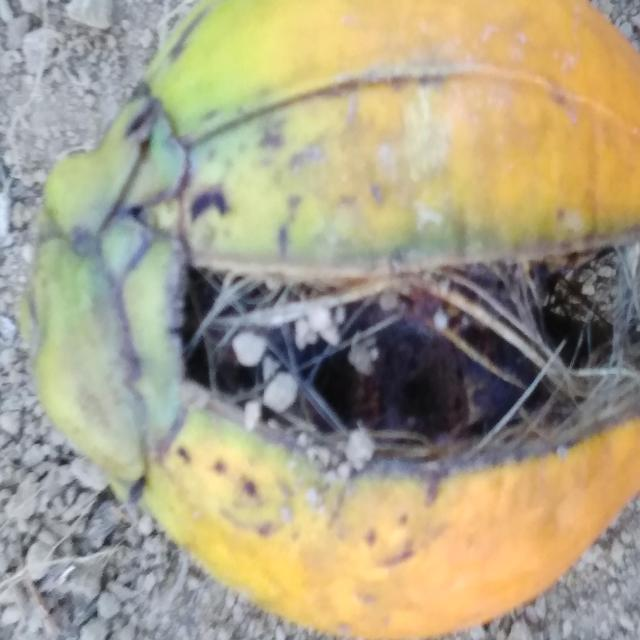damaged: (17, 0, 640, 640)
